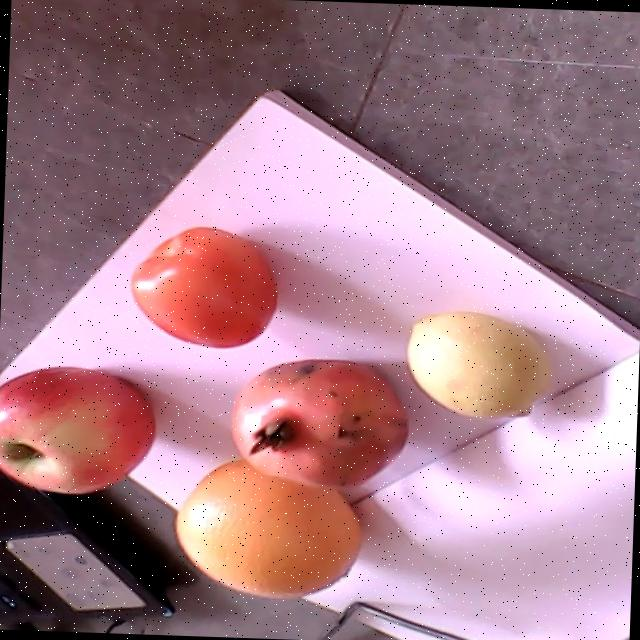apple: (0, 364, 158, 494)
lemon: (407, 311, 554, 419)
orange: (175, 460, 359, 599)
pomegranate: (227, 356, 404, 489)
tomato: (129, 227, 279, 347)
